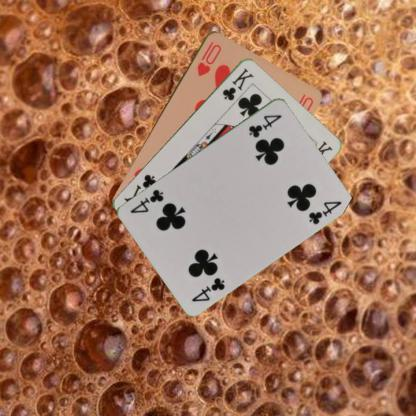10h: (194, 38, 223, 78)
4c: (188, 274, 226, 303), (246, 112, 284, 140)
Kc: (220, 66, 256, 102)
